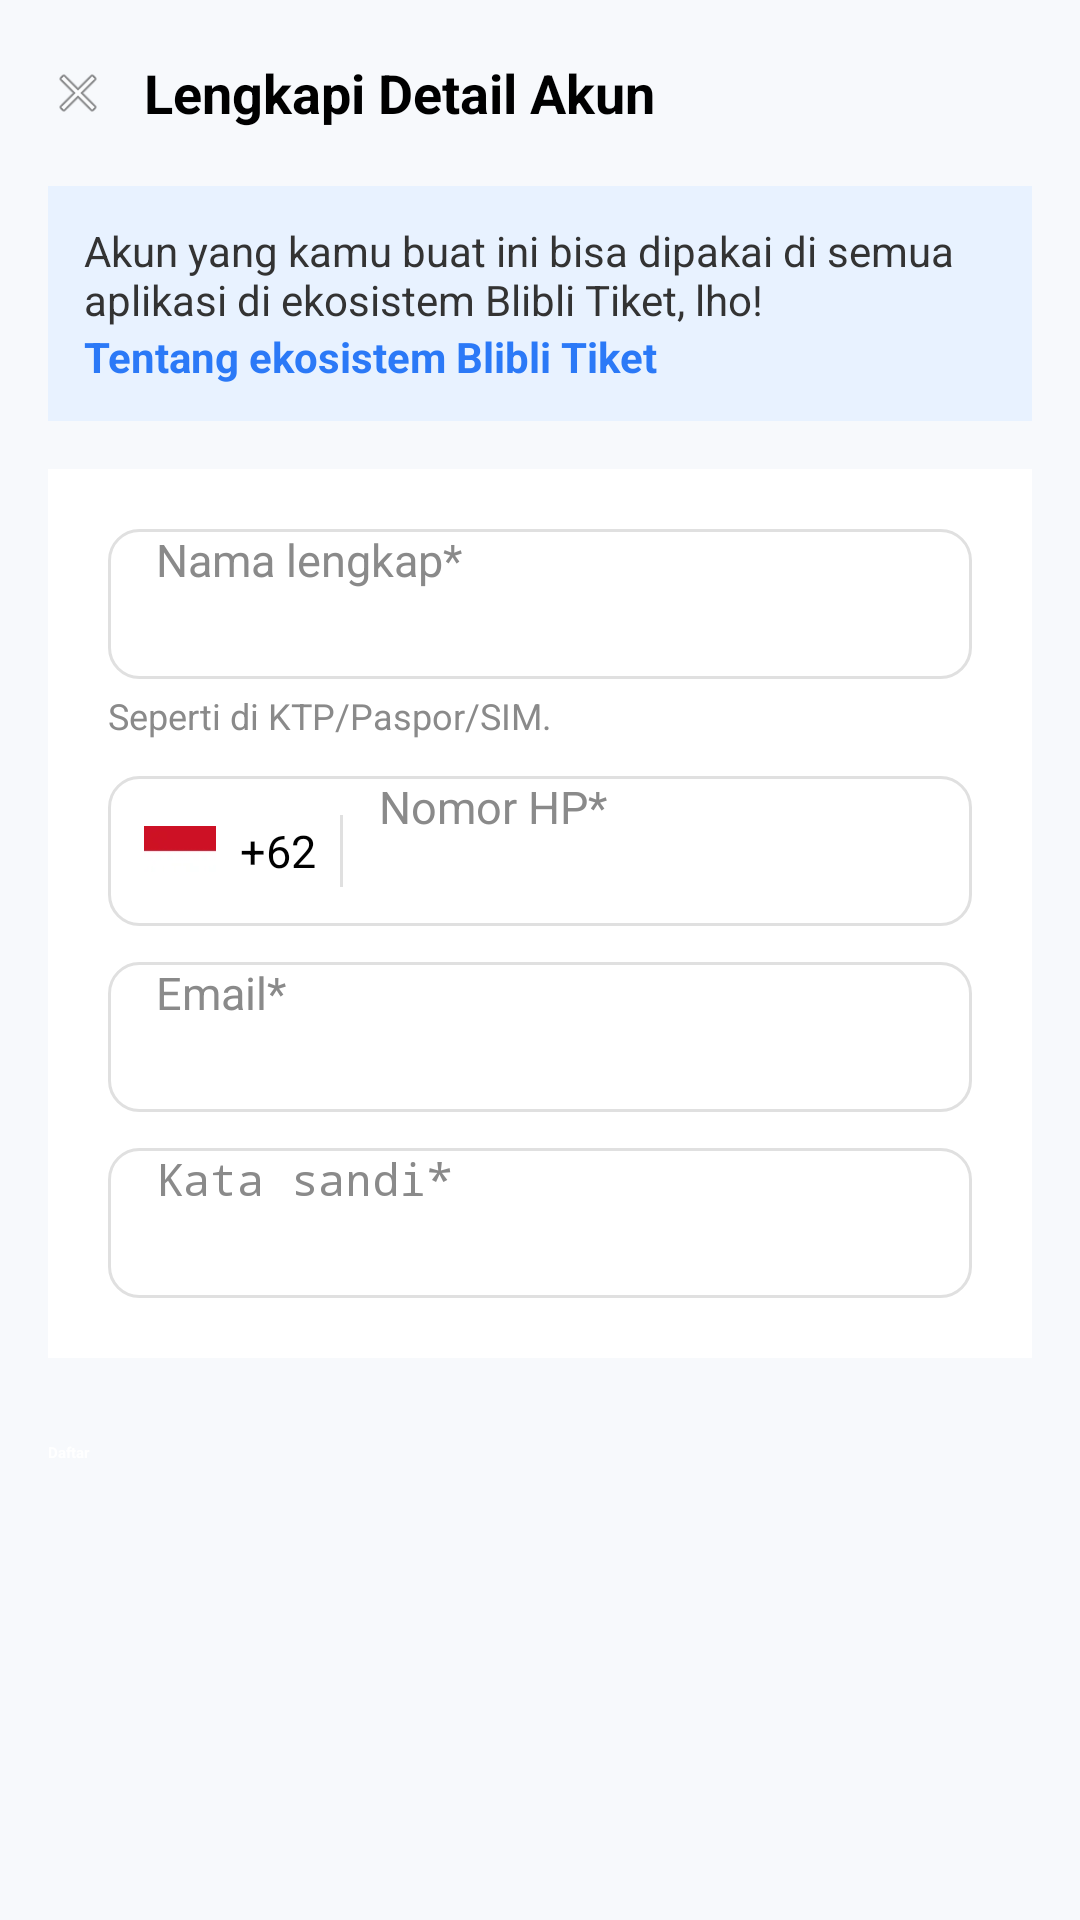

Icon bounding boxes for this 1080×1920 phone screenshot, format (x1, y1, x2, y2):
Tutup: (59, 74, 97, 112)
